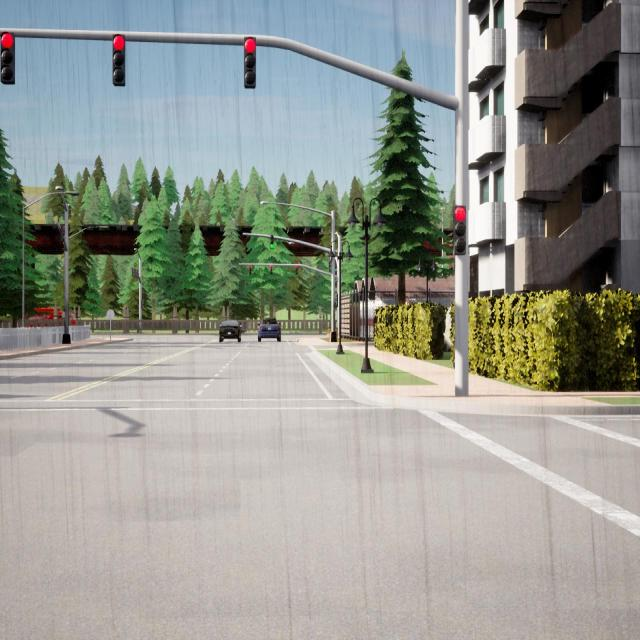Traffic_Signs: (108, 309, 114, 319)
Vehicle: (25, 306, 76, 326), (258, 316, 281, 342), (219, 320, 241, 343)
traffic_light: (1, 32, 15, 84), (112, 34, 126, 86), (244, 37, 256, 88), (454, 206, 466, 254), (60, 226, 66, 241), (270, 235, 274, 249), (249, 264, 251, 274), (270, 264, 272, 274), (134, 268, 136, 278), (296, 266, 298, 274), (141, 301, 143, 308), (132, 268, 133, 276), (137, 270, 138, 278)
